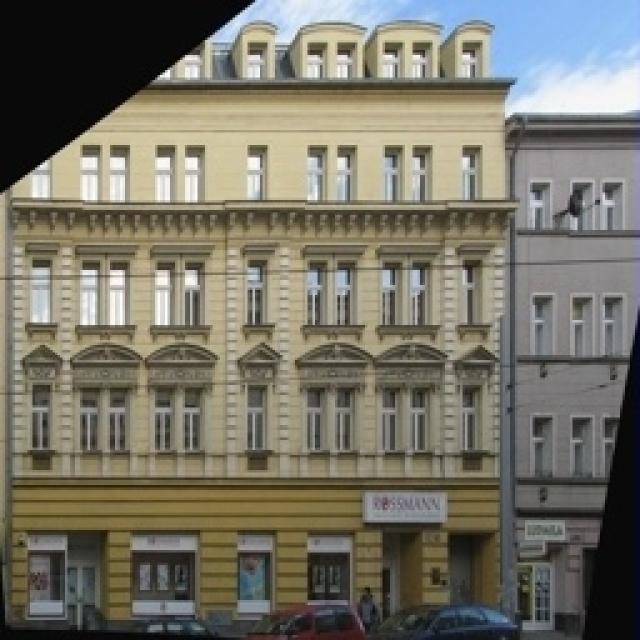building: (0, 15, 520, 640)
